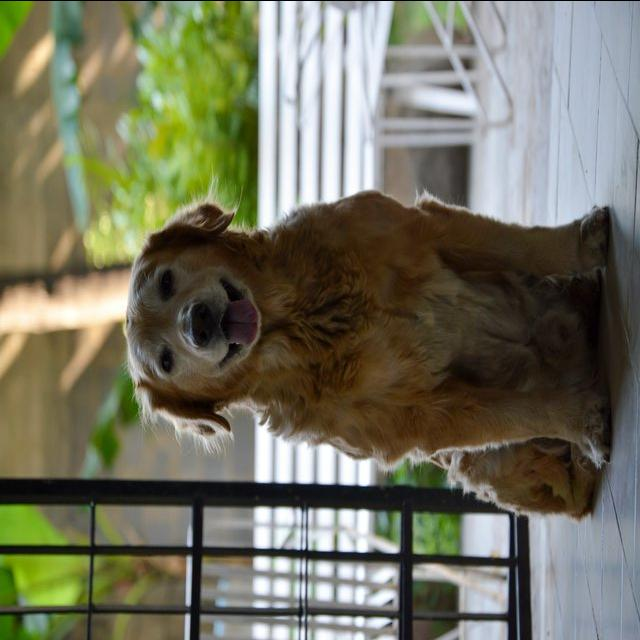retriever: (121, 183, 612, 523)
